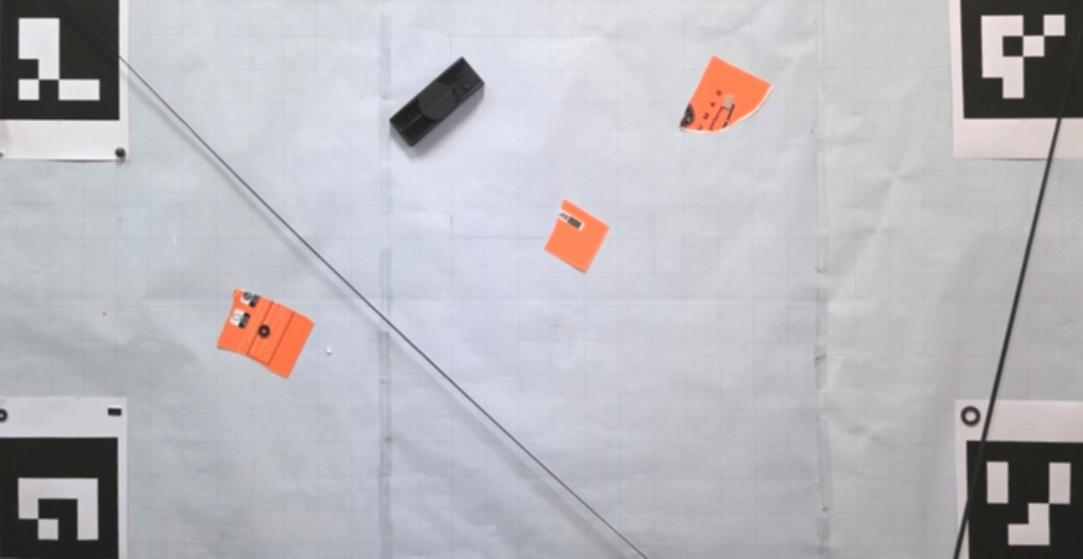obstacle: (389, 56, 485, 150), (216, 288, 314, 379), (678, 53, 773, 134), (543, 200, 609, 273)
